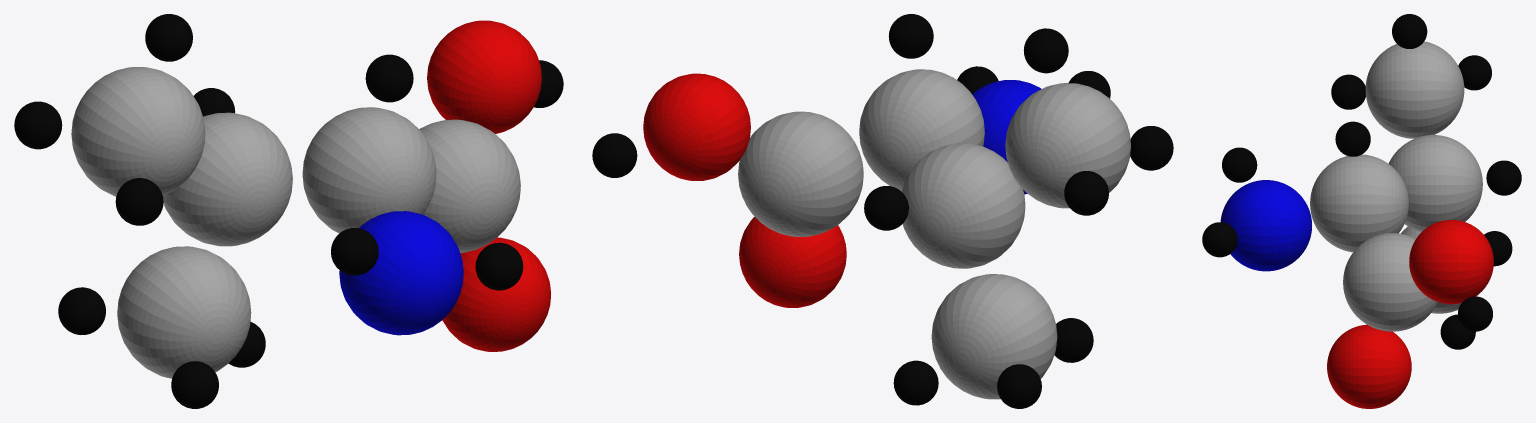
The model's file is Isoleucine.glb.
The picture shows the model from 3 angles, left to right: view 1: azimuth 30°, elevation 25°; view 2: azimuth 150°, elevation 25°; view 3: azimuth 270°, elevation 25°; orthographic projection. The views are drawn at different scales.
Parts seen in each view (by area): view 1: world; view 2: world; view 3: world.
Part boxes in pixels (x1,y1,x2,y2): world: (14,14,563,408); world: (592,14,1173,408); world: (1202,14,1521,408).
Bounding box in the file's own units: 6.55 × 4.6 × 4.52.
